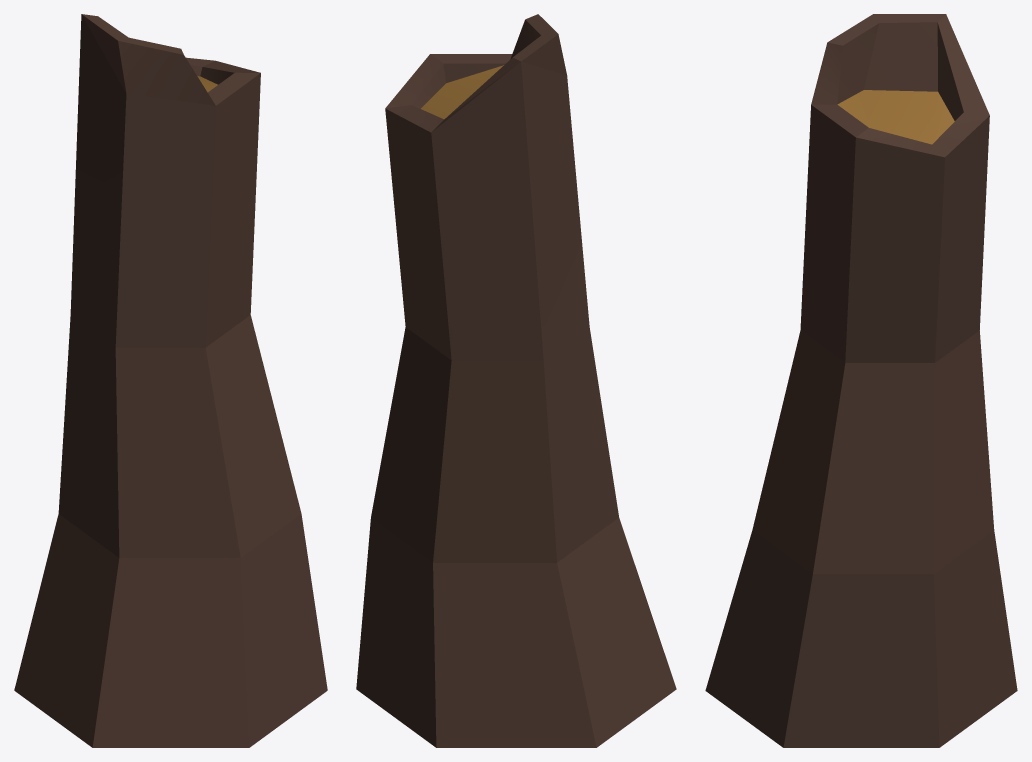
The model's file is tree_pine_log_3.fbx.
3 views of the same model, side by side, from view 1: azimuth 30°, elevation 25°; view 2: azimuth 150°, elevation 25°; view 3: azimuth 270°, elevation 25° (orthographic). The views are drawn at different scales.
Parts seen in each view (by area): view 1: tree_pine_log_3; view 2: tree_pine_log_3; view 3: tree_pine_log_3.
Boxes of the visible parts, <box> form: tree_pine_log_3: <box>14,14,327,747</box>; tree_pine_log_3: <box>356,14,676,747</box>; tree_pine_log_3: <box>705,14,1017,747</box>.
Size of the model in its own units: 119 by 318 by 138.
